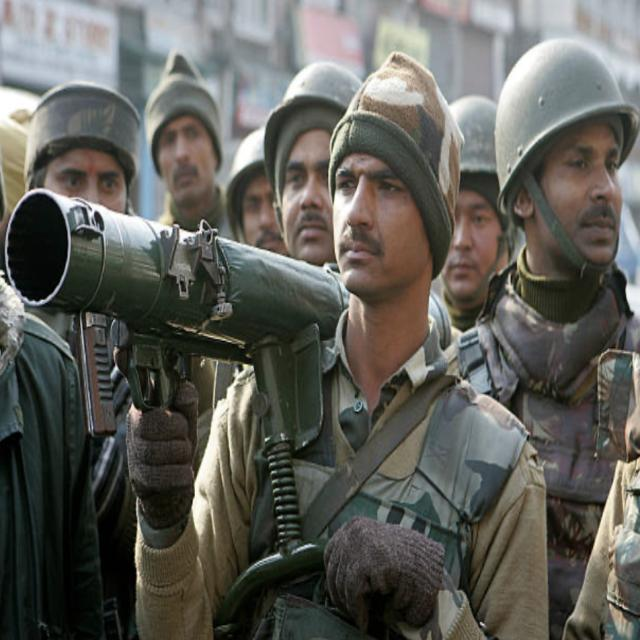bazooka: (1, 181, 471, 495)
